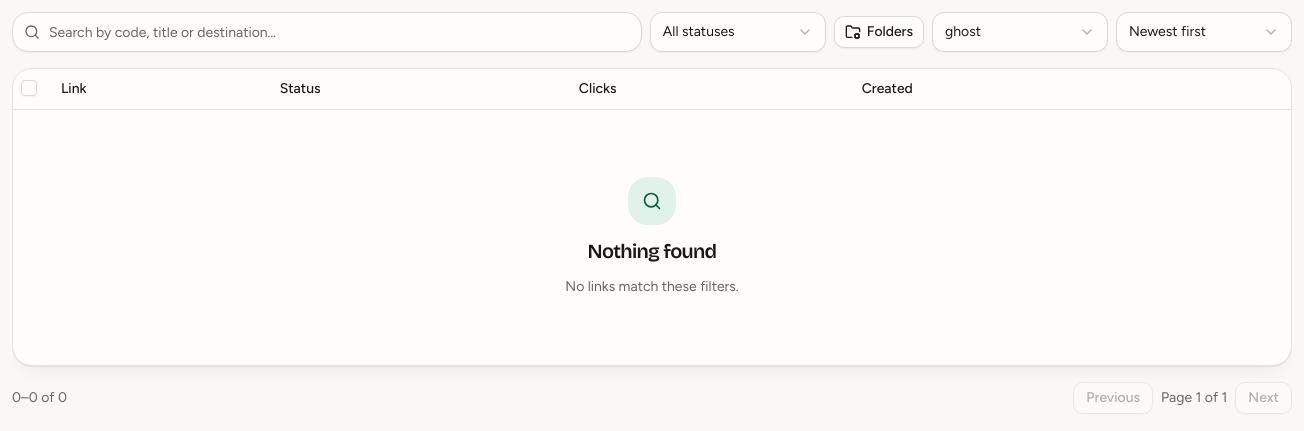
it: LinksTable tags › keeps the dropdown (and the active tag selectable) when the filter matches nothing
Expected: the text "Nothing found" is shown, [588,237,716,265]
Click the dropdown named "Filter by tag".
click(1020, 32)  # box [932,12,1108,52]
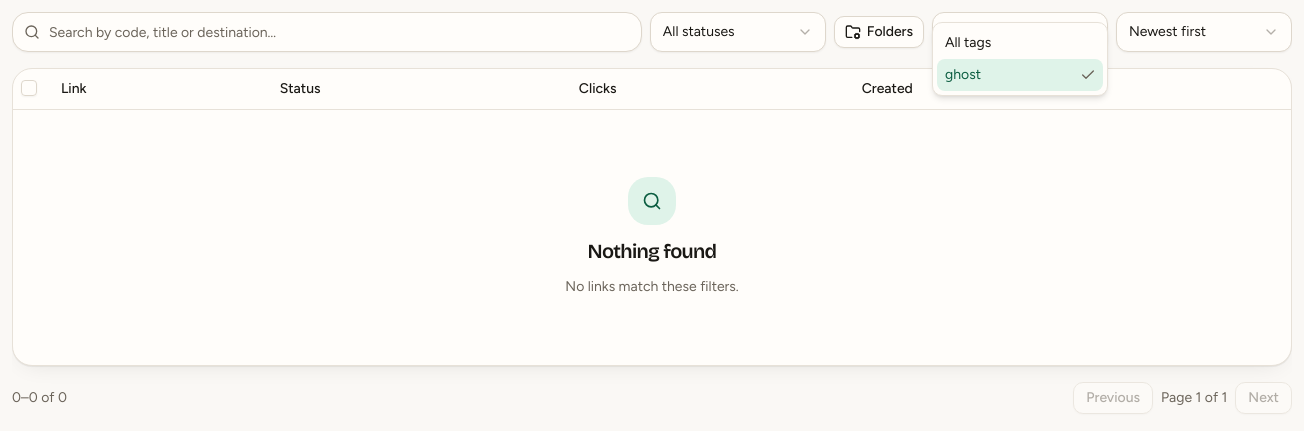
Expected: the options read "All tags", "ghost", in this order, [945,34,991,51]; [937,59,1103,91]
